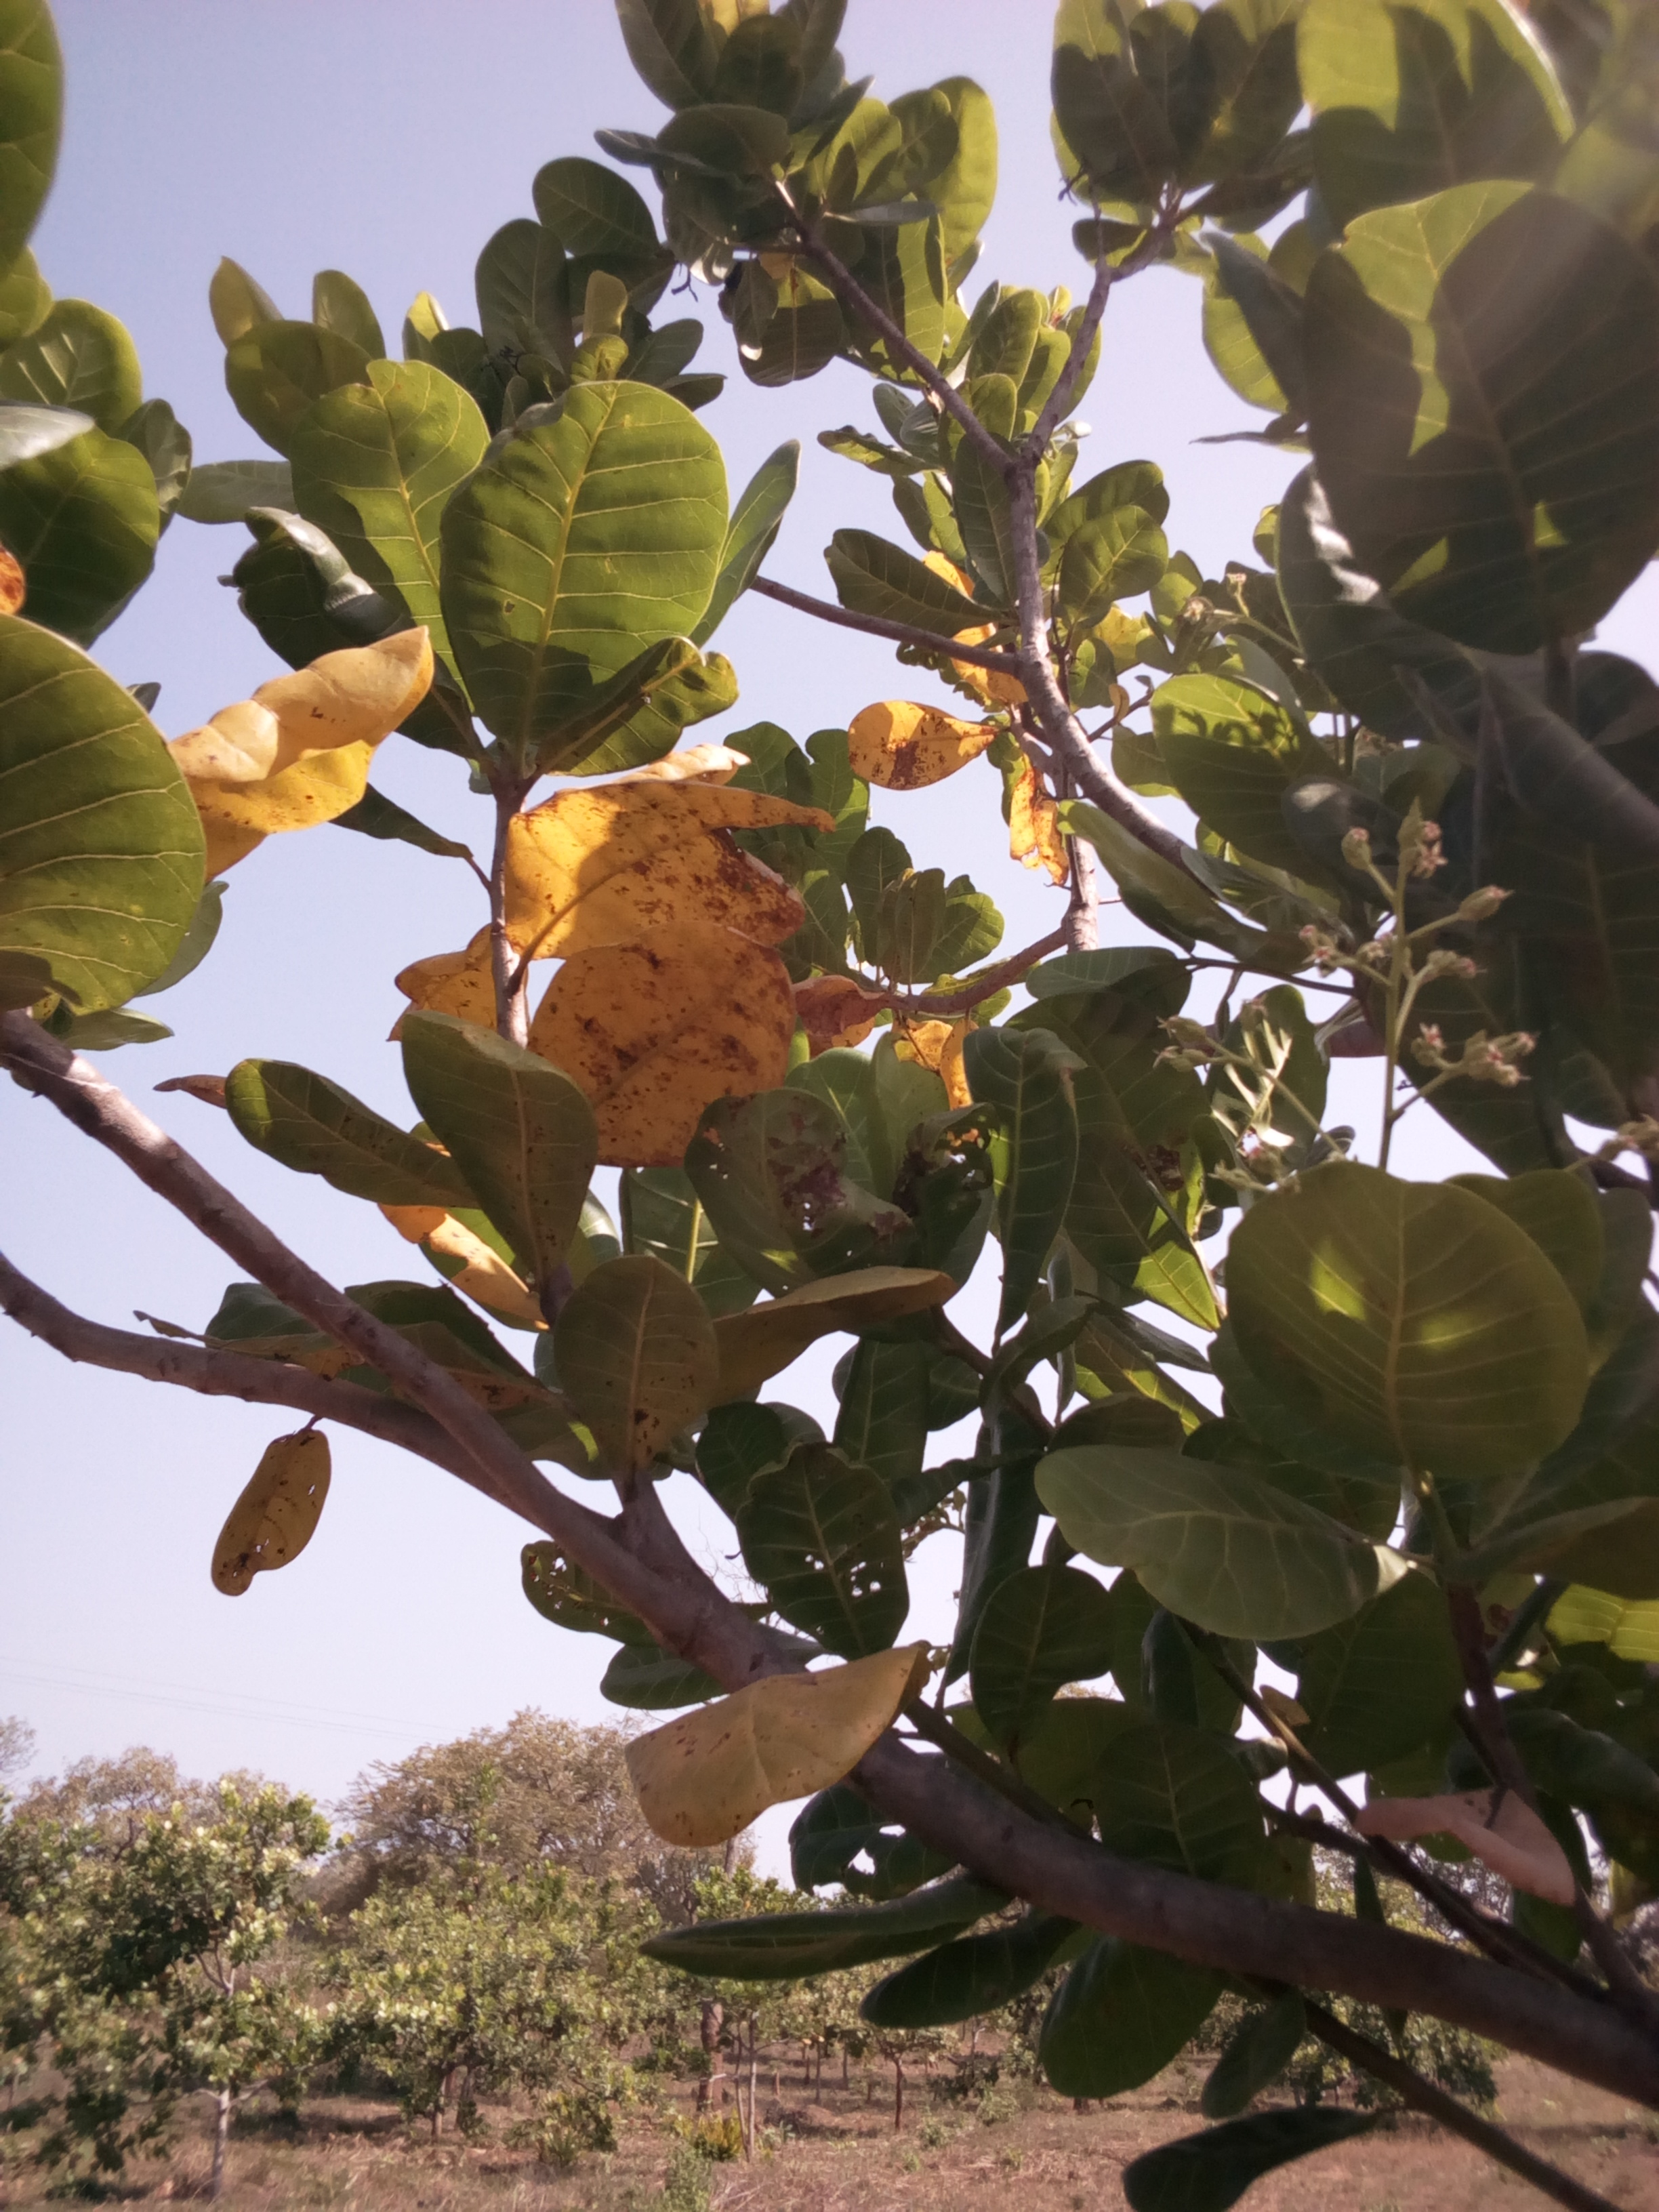Anthracnose: (622, 1644, 927, 1848), (535, 930, 805, 1146), (514, 784, 829, 967), (549, 1238, 721, 1503)
